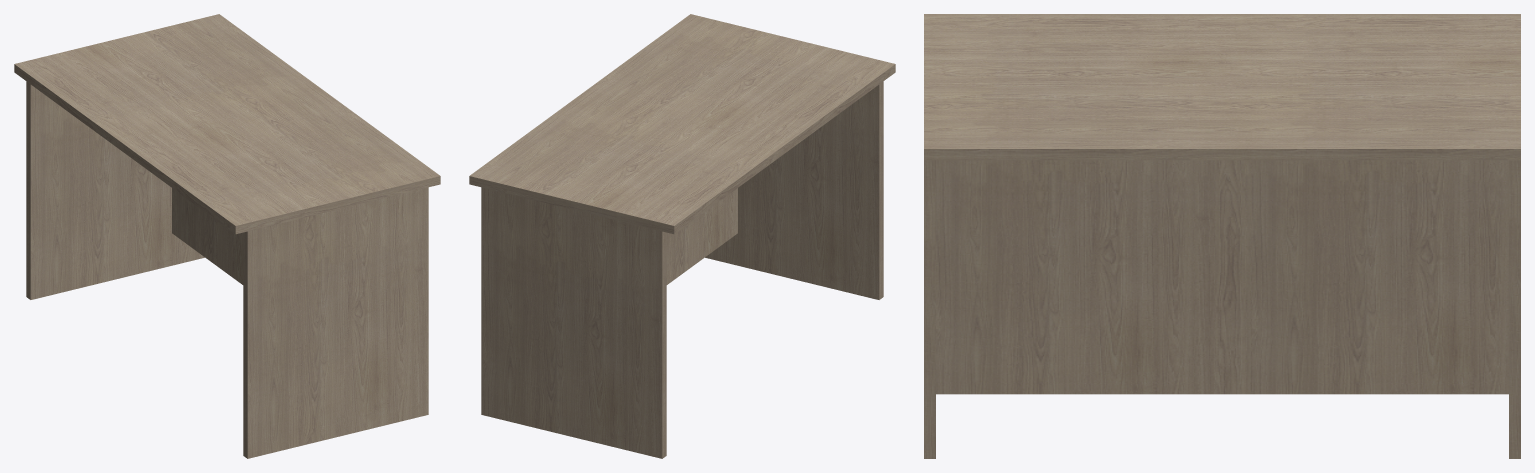
3 views of the same model, side by side, from view 1: azimuth 30°, elevation 25°; view 2: azimuth 150°, elevation 25°; view 3: azimuth 270°, elevation 25° (orthographic). The views are drawn at different scales.
Visible parts, largest first — view 1: SM_桌子; view 2: SM_桌子; view 3: SM_桌子.
Part boxes in pixels (x1,y1,x2,y2): SM_桌子: (14, 14, 440, 458); SM_桌子: (469, 14, 895, 458); SM_桌子: (924, 14, 1520, 458).
Size of the model in its own units: 0.6054 by 0.6655 by 1.13.
